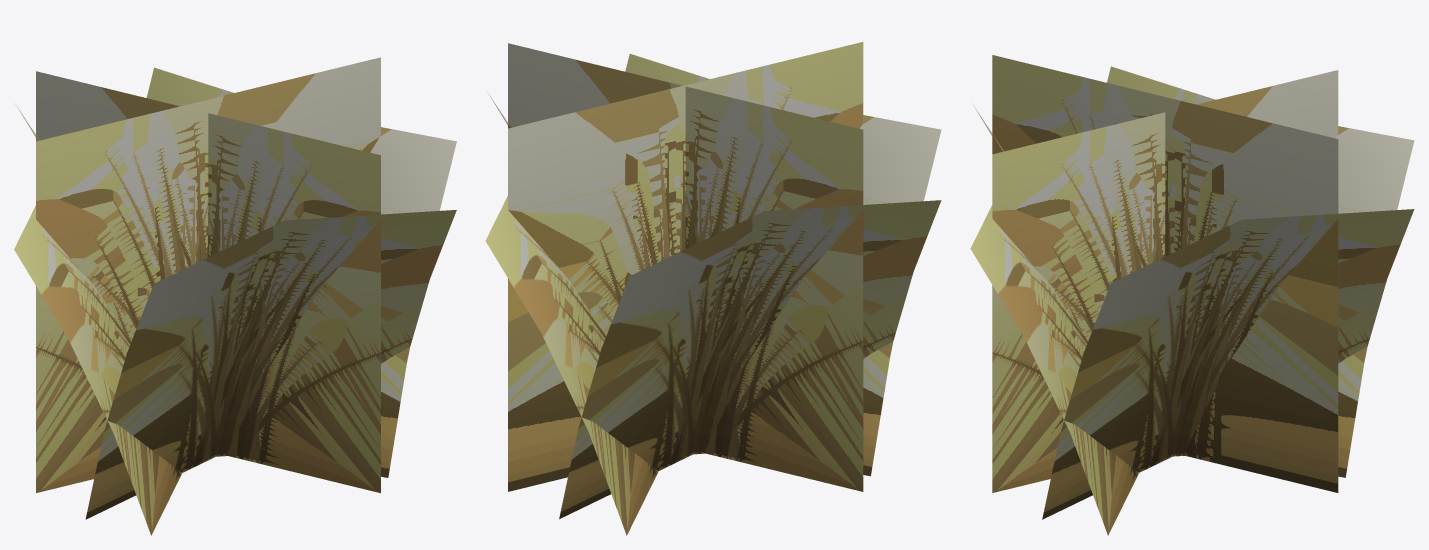
Rendered from grass_tuft.glb.
The picture shows the model from 3 angles, left to right: view 1: azimuth 30°, elevation 25°; view 2: azimuth 150°, elevation 25°; view 3: azimuth 270°, elevation 25°; orthographic projection. The views are drawn at different scales.
Parts seen in each view (by area): view 1: grass_tuft; view 2: grass_tuft; view 3: grass_tuft.
Part boxes in pixels (x1,y1,x2,y2): grass_tuft: (14,57,456,535); grass_tuft: (485,42,941,535); grass_tuft: (970,55,1414,535).
Size of the model in its own units: 0.6741 by 0.5293 by 0.5838.
Materials: 1 (1 with a texture image).
